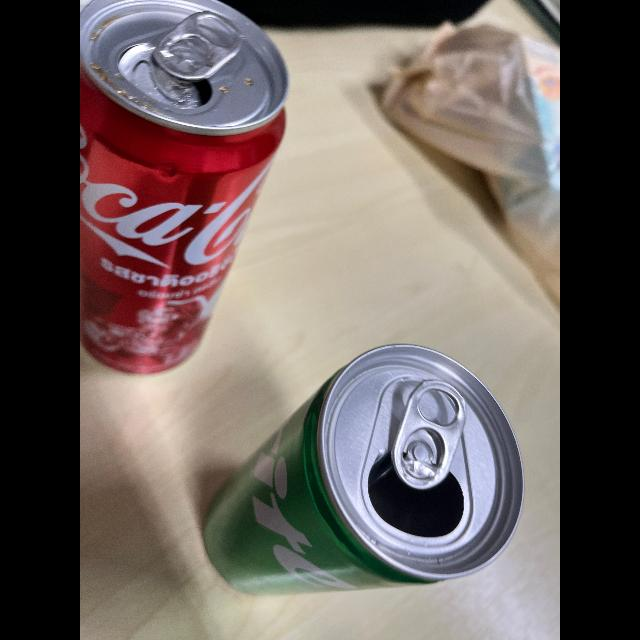can: (180, 341, 538, 609), (80, 1, 302, 380)
